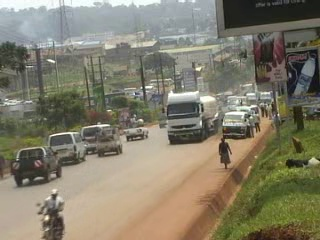Motorcycle: (30, 186, 69, 238)
